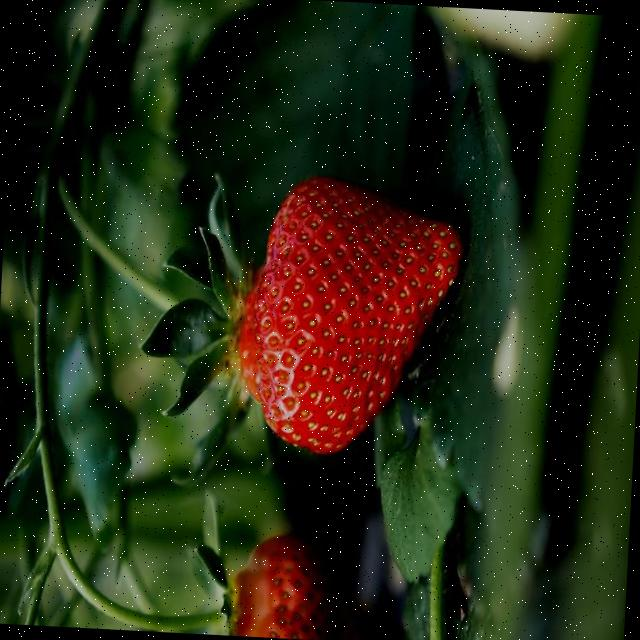strawberry: (238, 176, 462, 453), (233, 534, 361, 640)
